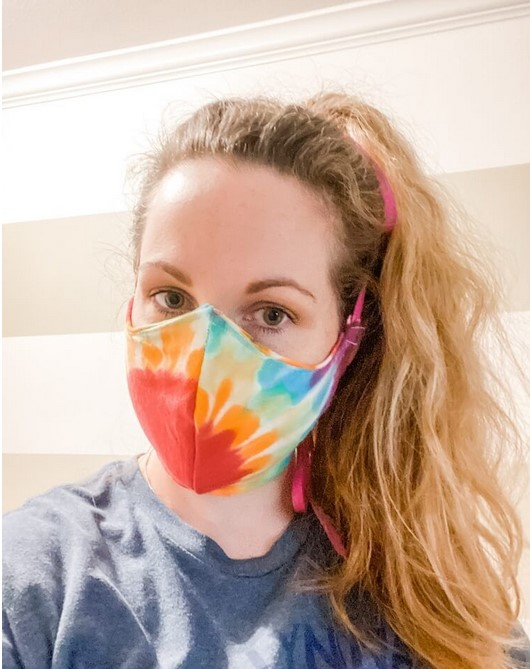face_with_mask: (123, 110, 398, 507)
